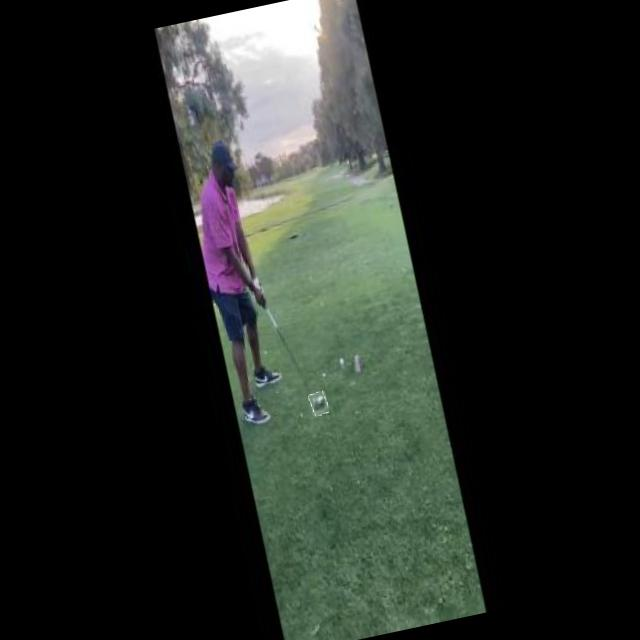club head: (308, 390, 329, 416)
